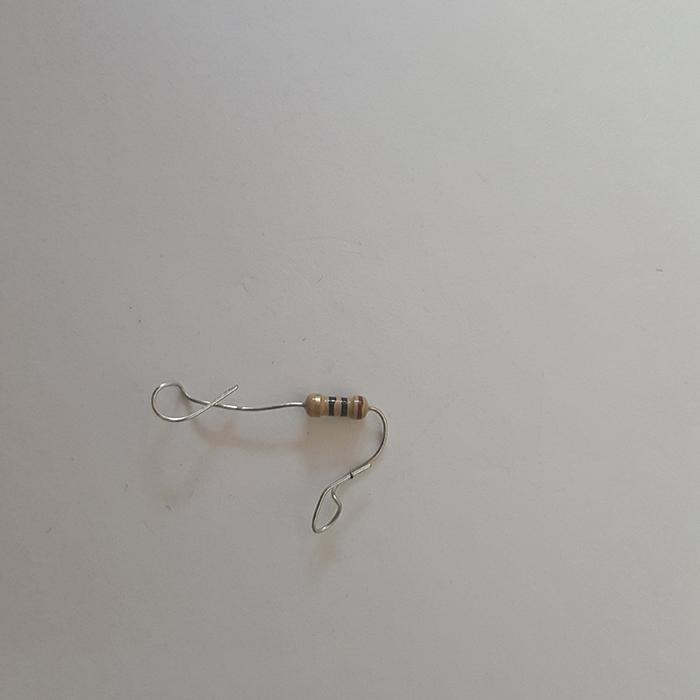resistor: (303, 393, 370, 419)
